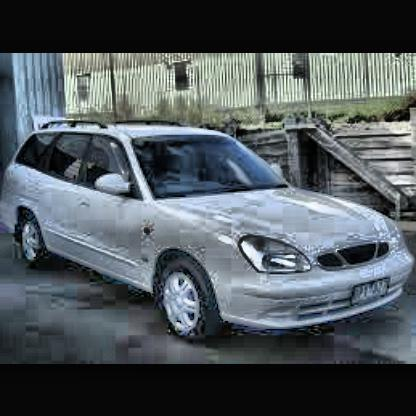Daewoo Nubira Wagon 2002: (6, 122, 416, 338)
